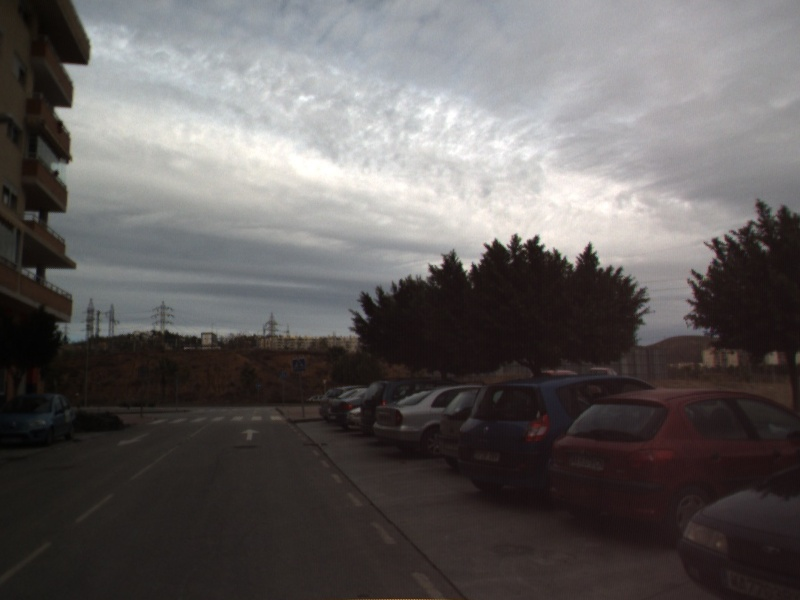STRAIGHT: (239, 427, 262, 442)
